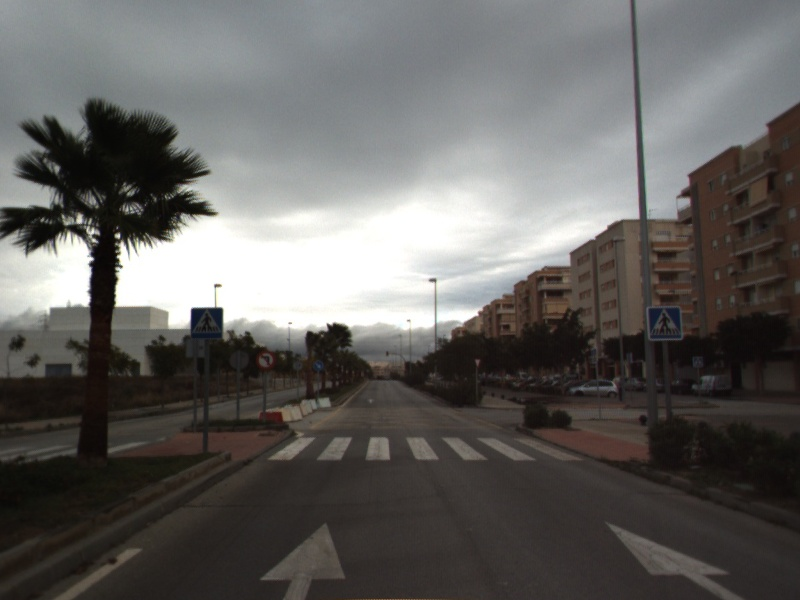STRAIGHT: (602, 519, 751, 600), (257, 520, 348, 600)
